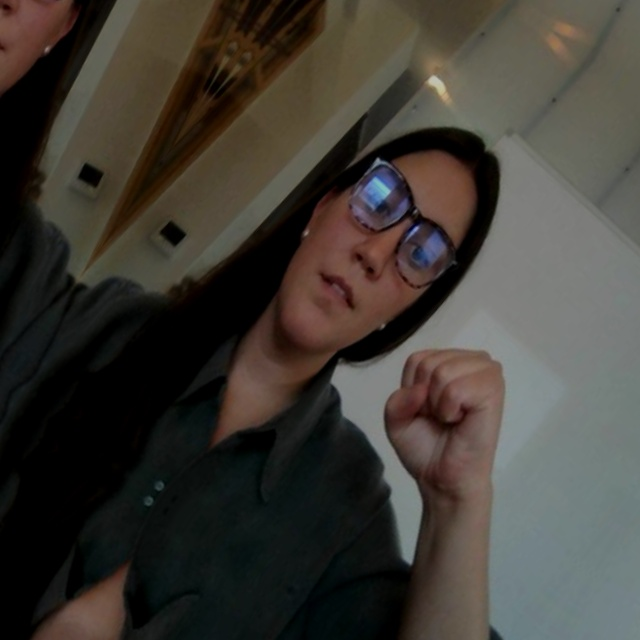Rock: (312, 287, 574, 556)
